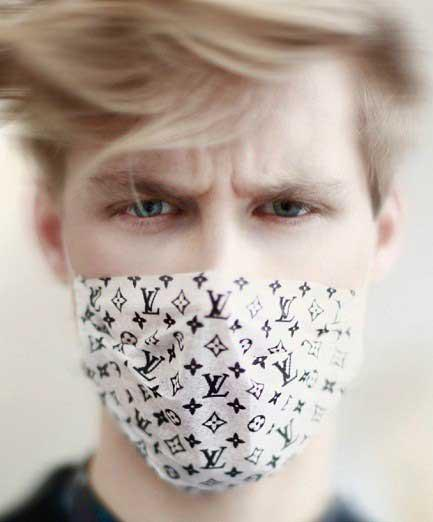OK: (44, 130, 388, 474)
